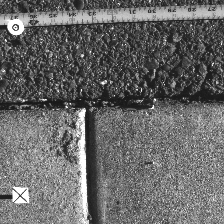circle: (6, 18, 25, 35)
crack: (1, 94, 223, 111)
square: (11, 186, 29, 204)
